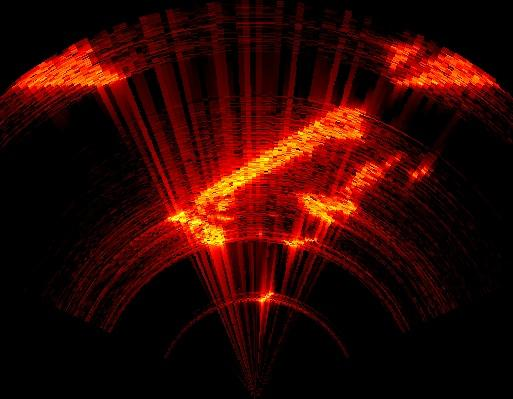shipwreck: (168, 108, 368, 245), (297, 156, 400, 226), (14, 51, 121, 90), (393, 52, 499, 89), (390, 43, 419, 69), (285, 233, 315, 246)
